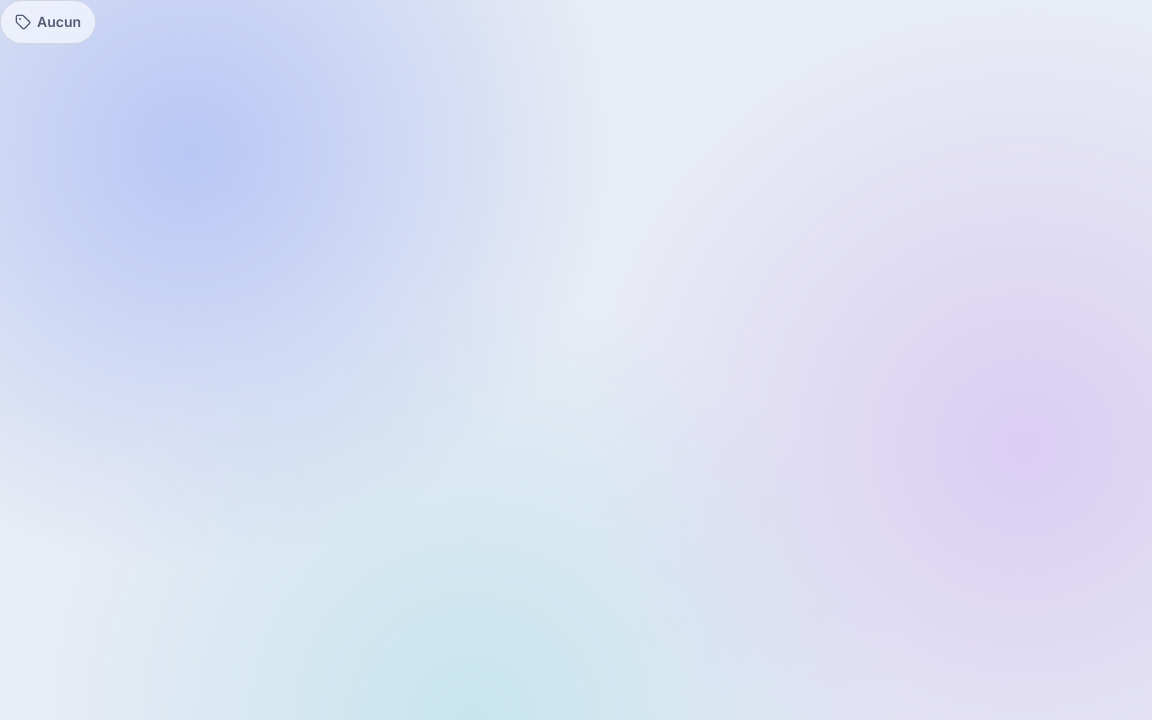
Test: pastille Tags › lit les tags par le chargeur reçu, à la première ouverture seulement
The width and height of the screenshot is (1152, 720).
Click the button with aria-label "Tags".
click(48, 22)  # box [0,0,96,44]
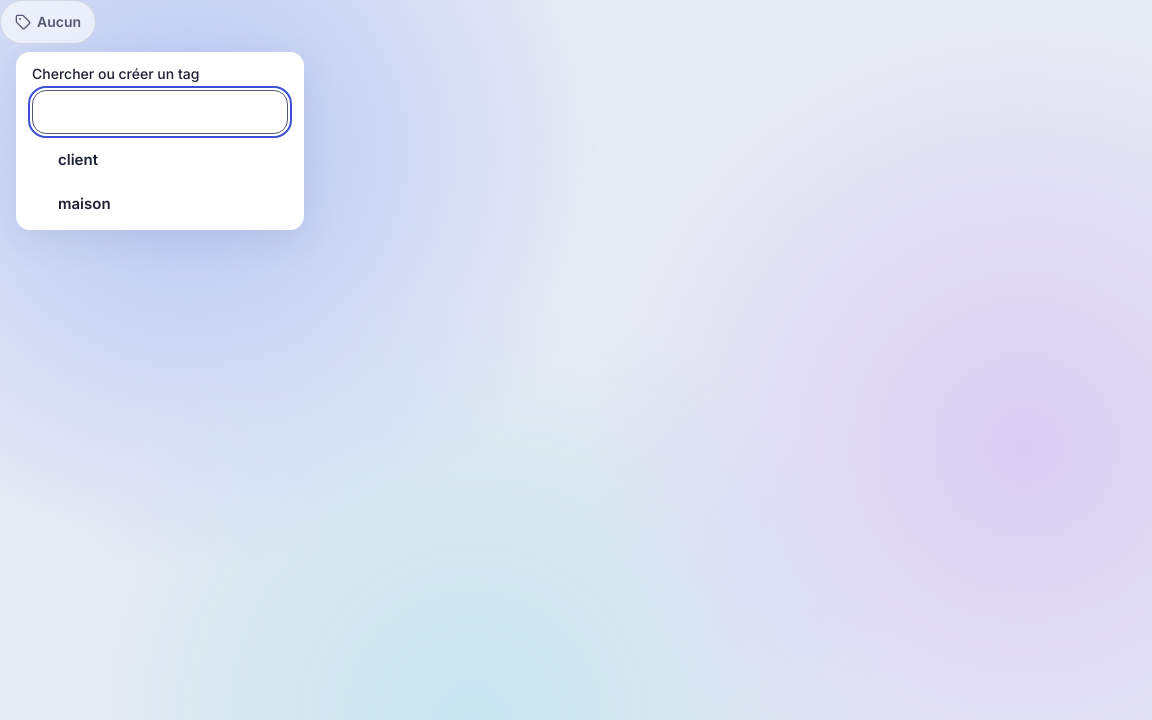
Check: the button "maison" is shown, box [20,182,300,226]
